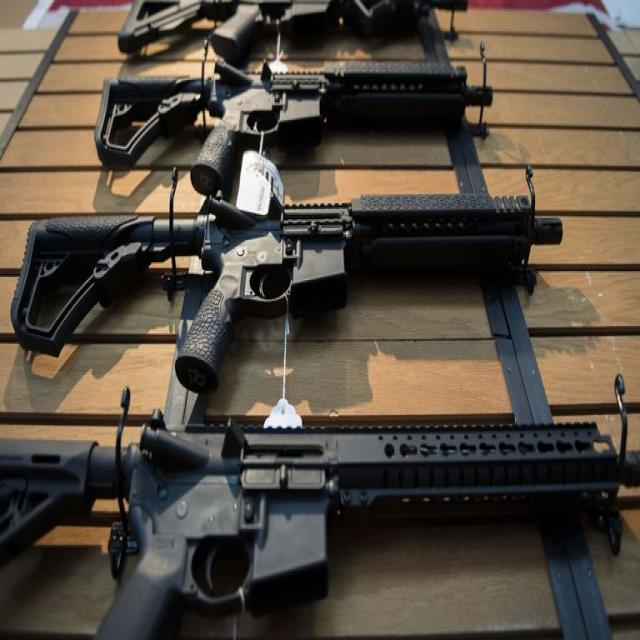Rifle: (0, 401, 640, 640), (10, 178, 562, 394), (95, 62, 492, 194)
